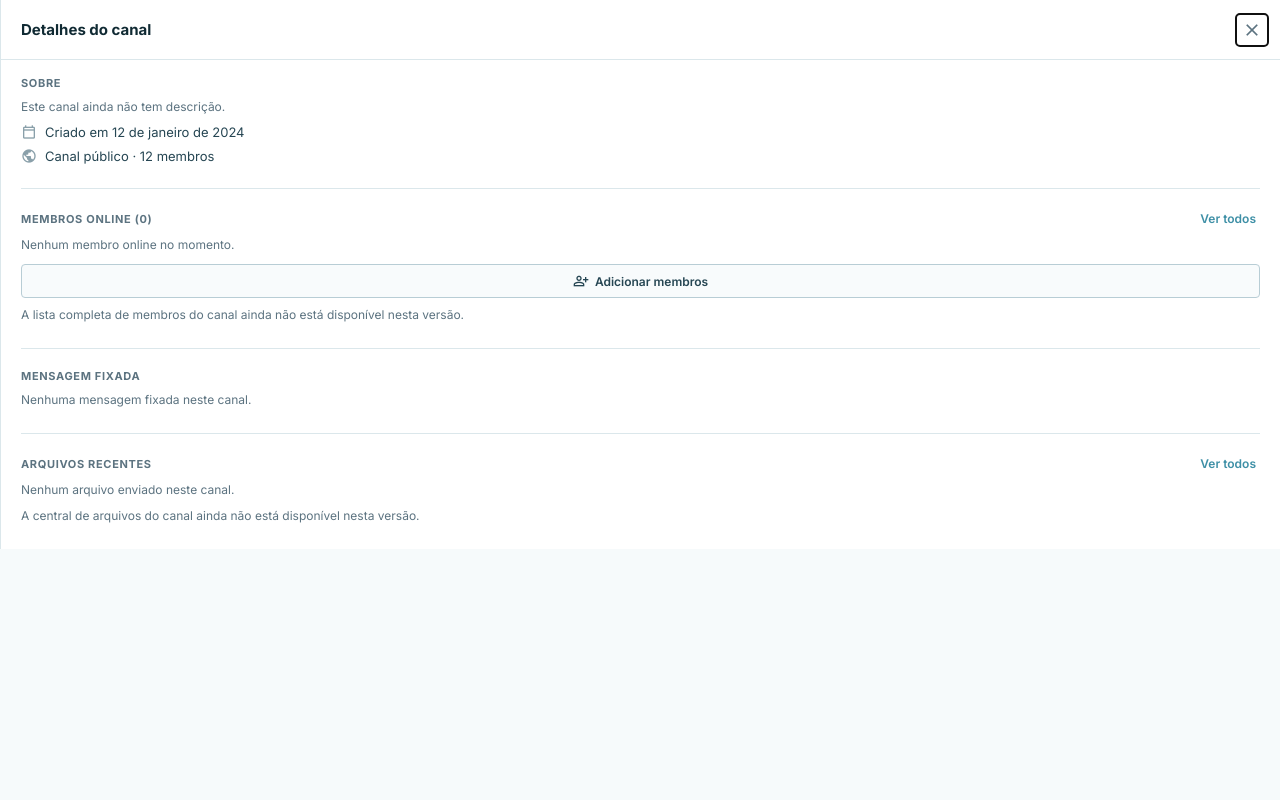
ConversationDetailsPanel — adicionar membros: fluxo › opens and closes the picker, returning focus to the action
Step 1. Click the button with test id "chat-details-add-members" → (640, 281), box [21, 264, 1260, 298]
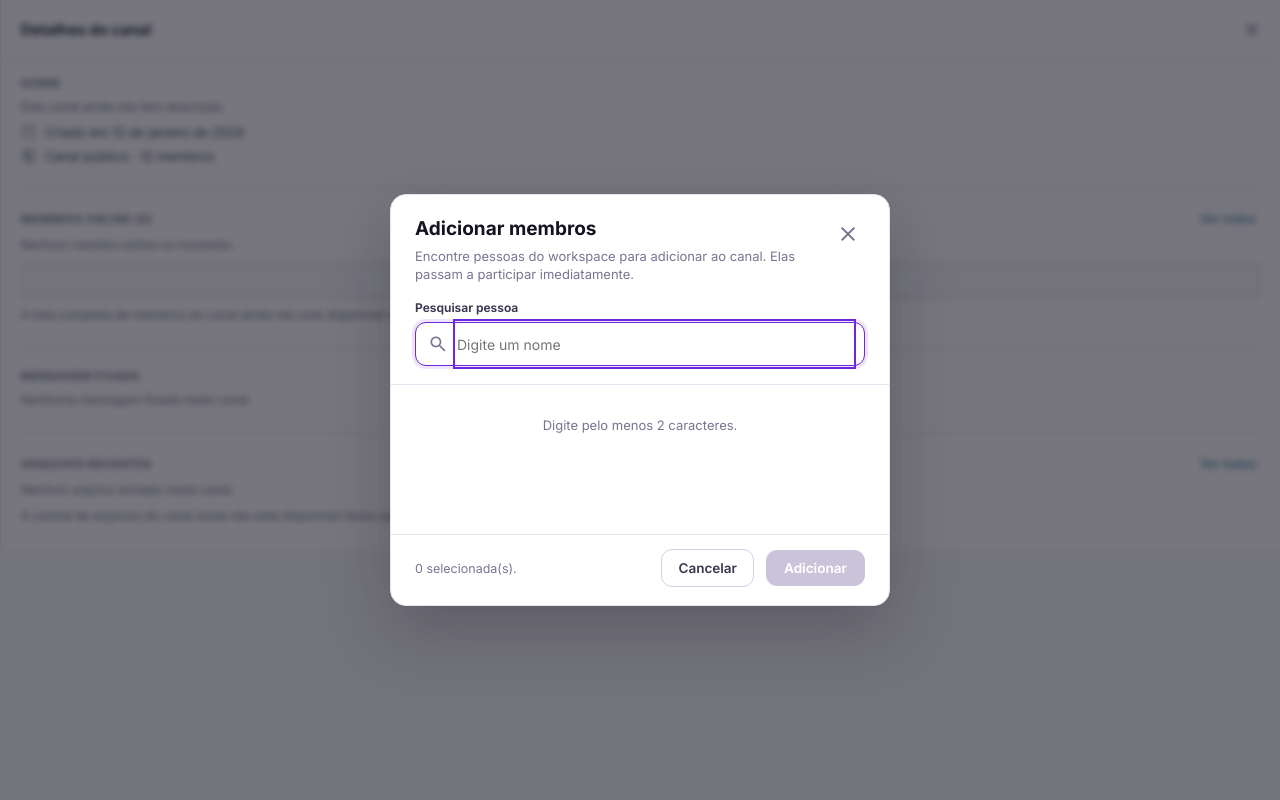
Now the dialog "Adicionar membros" is shown, box [390, 194, 890, 606]
Step 2. Press Escape
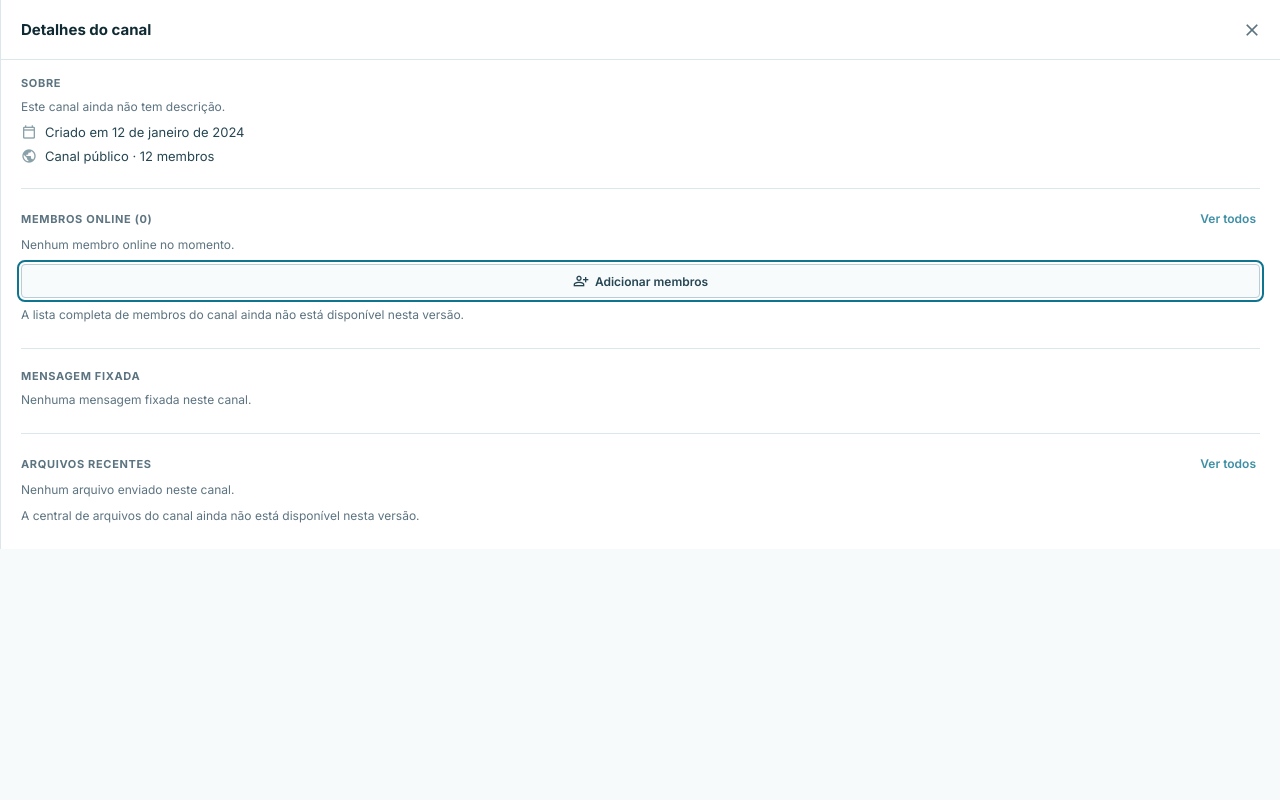
Now the dialog is gone
